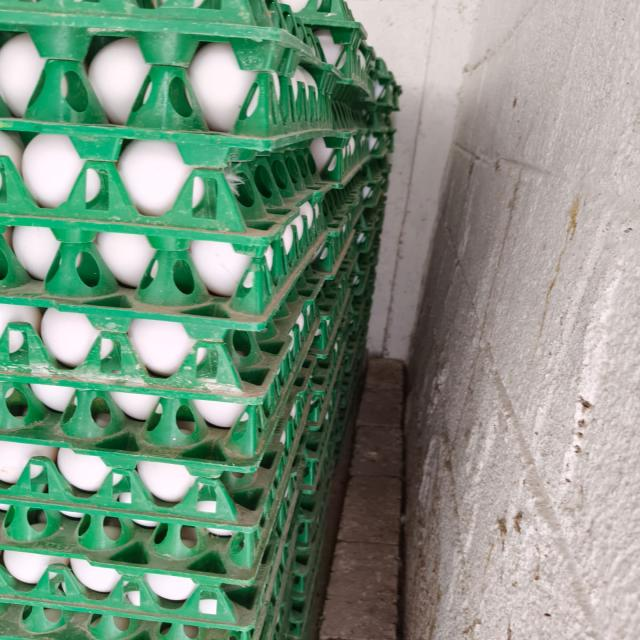egg_tray: (0, 151, 357, 328), (0, 402, 307, 606), (0, 172, 369, 324), (0, 403, 308, 584), (2, 320, 316, 473), (0, 23, 334, 156), (0, 132, 370, 251), (0, 455, 299, 601), (0, 352, 315, 483), (0, 278, 321, 404), (0, 508, 295, 640), (2, 382, 303, 510), (0, 132, 333, 246), (0, 215, 326, 330), (13, 0, 374, 98), (57, 505, 296, 630), (3, 382, 288, 474), (8, 0, 330, 75), (0, 545, 271, 625), (3, 0, 303, 59), (155, 540, 277, 640), (311, 133, 385, 279), (314, 30, 401, 154), (15, 564, 157, 638), (0, 602, 252, 640), (314, 163, 387, 281), (297, 0, 375, 101), (289, 465, 332, 636), (302, 370, 360, 494), (310, 253, 375, 359), (266, 0, 338, 94), (253, 511, 296, 640), (255, 510, 296, 640), (312, 180, 365, 279), (302, 371, 342, 493), (308, 314, 349, 428), (310, 131, 385, 192), (323, 360, 362, 477), (322, 124, 392, 188), (310, 261, 354, 359), (263, 503, 297, 628), (309, 124, 372, 189), (328, 336, 365, 443), (301, 392, 340, 493), (353, 52, 401, 133), (314, 314, 355, 408), (324, 27, 374, 102), (260, 538, 296, 640), (260, 540, 296, 640), (306, 340, 346, 430), (310, 130, 371, 188), (301, 409, 342, 494), (325, 380, 361, 476), (260, 552, 299, 640), (259, 548, 296, 640), (316, 286, 357, 367), (281, 356, 316, 450), (336, 314, 367, 420), (289, 540, 322, 638), (301, 410, 339, 493), (340, 295, 372, 388), (310, 288, 351, 360), (341, 267, 375, 352), (311, 280, 348, 358), (294, 477, 332, 552), (286, 0, 365, 36), (273, 493, 302, 591), (332, 334, 364, 419), (295, 477, 332, 550), (351, 214, 383, 298), (356, 203, 384, 296), (351, 215, 383, 296), (295, 478, 330, 550), (313, 223, 357, 280), (355, 176, 387, 254), (289, 528, 323, 599), (287, 566, 319, 640), (338, 333, 365, 420), (332, 99, 395, 136), (342, 291, 372, 367), (310, 300, 348, 359), (348, 251, 377, 327), (356, 192, 386, 264), (323, 409, 354, 478), (356, 165, 388, 230), (343, 298, 372, 368), (259, 577, 289, 640), (260, 577, 290, 640), (363, 157, 390, 224), (346, 293, 372, 360), (358, 209, 384, 274), (347, 286, 372, 353), (363, 158, 390, 220), (334, 316, 356, 390), (372, 57, 401, 113), (364, 154, 391, 214), (365, 154, 392, 214), (365, 155, 391, 217), (357, 206, 383, 266), (351, 260, 374, 327), (353, 264, 375, 333), (374, 58, 402, 112), (271, 485, 297, 543), (364, 105, 396, 151), (271, 598, 306, 640), (366, 194, 386, 266), (362, 161, 388, 216), (354, 250, 377, 312), (332, 100, 379, 130), (355, 206, 383, 256), (360, 207, 383, 267), (256, 591, 284, 640), (0, 469, 41, 501), (368, 114, 396, 160), (353, 254, 377, 306), (337, 374, 361, 426), (287, 592, 313, 640), (367, 111, 396, 154), (288, 593, 312, 640), (360, 255, 377, 321), (371, 134, 394, 182), (373, 56, 401, 95), (350, 253, 374, 298), (363, 154, 391, 192), (338, 379, 361, 424), (355, 212, 379, 254), (362, 105, 395, 135), (374, 130, 395, 176), (141, 469, 183, 492), (371, 153, 393, 195), (374, 155, 391, 204), (287, 602, 307, 640), (34, 384, 74, 403), (343, 338, 366, 371), (34, 385, 73, 403), (292, 359, 314, 390), (6, 564, 41, 583), (369, 131, 393, 158), (369, 230, 380, 287), (65, 457, 90, 481), (234, 483, 260, 506), (367, 154, 391, 177), (102, 163, 121, 192), (374, 57, 394, 82), (308, 408, 330, 430), (154, 525, 185, 540), (359, 290, 372, 322), (354, 340, 365, 370), (294, 316, 308, 338), (391, 82, 402, 110), (167, 505, 190, 516), (0, 441, 15, 457), (142, 496, 157, 512), (355, 269, 367, 288), (3, 215, 33, 222), (323, 191, 337, 206), (315, 30, 326, 48), (171, 625, 185, 638), (326, 449, 338, 464), (373, 218, 381, 240), (31, 476, 52, 484), (330, 136, 348, 145), (300, 55, 315, 65), (50, 482, 59, 498), (329, 191, 346, 199), (81, 482, 98, 490), (201, 499, 216, 508), (374, 225, 381, 243), (311, 140, 319, 155), (129, 594, 139, 606), (309, 570, 316, 586), (280, 563, 290, 574), (374, 228, 380, 246), (45, 218, 63, 224), (333, 91, 341, 104), (12, 12, 22, 22), (289, 158, 297, 170), (341, 396, 350, 406), (110, 632, 128, 637), (118, 620, 127, 630), (370, 268, 375, 285), (68, 590, 75, 602), (375, 229, 381, 243), (292, 365, 300, 375), (266, 456, 276, 464), (356, 235, 363, 246), (301, 362, 308, 373), (297, 225, 304, 236), (356, 360, 363, 371), (337, 34, 348, 41), (334, 223, 342, 232), (148, 186, 157, 194), (375, 92, 384, 100), (101, 620, 110, 628), (330, 452, 337, 462), (312, 572, 317, 586), (162, 624, 170, 632), (15, 449, 22, 458), (365, 196, 372, 205), (284, 544, 291, 553), (325, 14, 334, 21), (370, 137, 376, 147), (375, 229, 379, 243), (71, 504, 85, 508), (349, 399, 354, 409), (341, 390, 348, 397), (374, 163, 386, 167), (183, 538, 191, 544), (13, 451, 19, 459), (85, 582, 94, 587), (271, 140, 282, 144), (373, 163, 379, 170), (92, 467, 98, 474), (216, 530, 223, 536), (278, 624, 284, 631), (172, 59, 180, 64), (65, 612, 70, 620), (98, 464, 103, 472), (346, 288, 352, 294), (286, 349, 292, 355), (371, 272, 374, 284), (292, 561, 295, 572), (33, 0, 41, 4), (47, 634, 55, 638), (375, 153, 383, 157), (246, 634, 251, 640), (214, 27, 220, 32), (354, 365, 360, 370), (103, 225, 113, 228), (308, 0, 313, 6), (94, 615, 99, 621), (196, 479, 202, 484), (19, 479, 25, 484), (179, 44, 186, 48), (79, 381, 86, 385), (146, 625, 153, 629), (186, 633, 195, 636), (165, 494, 174, 497), (151, 20, 156, 25), (165, 603, 170, 608), (333, 450, 338, 455), (347, 378, 351, 384), (145, 635, 156, 637), (103, 589, 110, 592), (319, 476, 322, 483), (111, 571, 115, 576), (330, 140, 335, 144), (326, 274, 331, 278), (293, 0, 297, 5), (73, 614, 77, 619), (336, 440, 340, 445), (114, 408, 118, 413), (270, 402, 275, 406), (72, 589, 77, 593), (255, 252, 261, 255), (387, 167, 390, 173), (293, 7, 299, 10), (325, 175, 329, 179), (361, 254, 365, 258), (185, 546, 189, 550), (274, 636, 278, 640), (167, 442, 171, 446), (109, 635, 117, 637), (370, 143, 373, 148), (194, 23, 197, 28), (133, 589, 138, 592), (271, 571, 274, 576), (296, 471, 299, 476), (315, 250, 318, 255), (352, 23, 357, 26), (41, 463, 46, 466), (75, 3, 82, 5), (125, 588, 132, 590), (239, 635, 245, 637), (313, 556, 316, 560), (277, 463, 281, 466), (334, 451, 338, 454), (275, 536, 278, 540), (97, 195, 101, 198), (167, 175, 170, 179), (346, 290, 349, 294), (354, 297, 358, 300), (198, 635, 204, 637), (385, 184, 387, 190), (354, 296, 358, 299), (27, 471, 30, 475), (270, 638, 275, 640), (94, 589, 99, 591), (359, 177, 364, 179), (335, 102, 340, 104), (291, 56, 296, 58), (318, 483, 321, 486), (287, 555, 290, 558), (140, 180, 143, 183), (10, 454, 13, 457), (154, 230, 157, 233), (361, 256, 364, 259), (343, 323, 346, 326), (35, 616, 38, 619), (305, 51, 308, 54), (70, 597, 73, 600), (263, 472, 266, 475), (361, 254, 365, 256), (32, 447, 36, 449), (297, 635, 301, 637), (363, 260, 365, 264), (238, 478, 242, 480), (288, 436, 290, 440), (316, 360, 320, 362), (320, 361, 324, 363), (51, 468, 53, 472), (264, 599, 268, 601), (103, 432, 107, 434), (351, 305, 353, 309), (37, 555, 40, 557), (167, 38, 170, 40), (212, 153, 215, 155), (299, 41, 301, 44), (365, 309, 368, 311), (272, 247, 275, 249), (149, 158, 151, 161), (383, 197, 385, 200), (365, 214, 367, 217), (358, 95, 361, 97), (215, 636, 218, 638), (364, 325, 365, 331), (165, 576, 168, 578), (63, 505, 69, 506), (133, 483, 136, 485), (299, 391, 301, 394), (19, 635, 24, 636), (97, 571, 99, 573), (297, 44, 299, 46), (76, 380, 78, 382), (294, 340, 296, 342), (245, 250, 247, 252), (150, 506, 152, 508), (287, 431, 289, 433), (135, 635, 137, 637), (89, 629, 90, 633), (236, 591, 238, 593), (61, 454, 62, 458), (273, 638, 275, 640), (299, 158, 301, 160), (372, 212, 374, 214), (335, 200, 339, 201), (395, 106, 396, 110), (12, 26, 14, 28), (167, 594, 171, 595), (34, 461, 36, 463), (97, 460, 99, 462), (358, 245, 361, 246), (274, 3, 277, 4), (305, 470, 306, 473), (274, 485, 277, 486), (358, 120, 361, 121), (30, 302, 33, 303), (206, 636, 209, 637), (116, 470, 119, 471), (293, 43, 295, 44), (178, 320, 180, 321), (305, 203, 307, 204), (249, 253, 251, 254), (146, 514, 148, 515), (109, 205, 110, 207), (162, 567, 164, 568), (231, 542, 232, 544), (165, 464, 166, 466), (205, 396, 206, 398), (274, 172, 275, 174), (278, 159, 279, 161), (299, 496, 301, 497), (237, 636, 239, 637), (42, 629, 44, 630), (25, 616, 26, 618), (356, 302, 357, 304), (99, 489, 101, 490), (102, 464, 103, 466), (23, 445, 24, 446), (358, 236, 359, 237), (327, 143, 328, 144), (241, 30, 242, 31), (358, 120, 359, 121), (0, 589, 1, 590), (238, 482, 239, 483), (340, 436, 341, 437), (7, 598, 8, 599), (116, 198, 117, 199), (16, 462, 17, 463), (62, 401, 63, 402), (362, 262, 363, 263), (307, 156, 308, 157), (294, 523, 294, 525), (361, 281, 362, 281), (81, 580, 81, 581), (41, 558, 41, 559), (94, 594, 94, 595), (85, 154, 87, 154), (210, 160, 210, 161), (174, 510, 174, 510), (34, 454, 36, 454), (292, 343, 292, 343), (287, 252, 287, 252), (281, 458, 281, 459), (387, 163, 388, 163), (294, 425, 294, 425), (81, 636, 84, 636), (90, 636, 90, 636), (137, 636, 139, 636), (172, 196, 172, 197), (123, 187, 123, 188), (106, 178, 106, 179), (160, 172, 162, 172), (138, 554, 139, 554), (92, 552, 93, 552), (241, 545, 241, 548), (365, 199, 366, 199), (76, 483, 77, 483), (29, 450, 30, 450), (300, 3, 301, 3), (359, 278, 359, 279), (263, 314, 263, 314), (379, 150, 379, 150), (334, 205, 334, 206), (323, 523, 323, 523), (274, 69, 274, 70), (318, 23, 319, 23), (316, 18, 316, 20), (189, 630, 190, 630), (137, 623, 137, 623), (361, 178, 361, 179), (270, 412, 270, 412), (290, 54, 290, 55), (0, 590, 1, 590), (32, 496, 32, 497), (191, 492, 192, 492), (40, 472, 41, 472), (142, 470, 144, 470), (29, 470, 30, 470), (94, 467, 94, 468)
